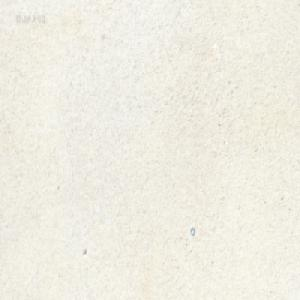Washer: (190, 226, 195, 236)
